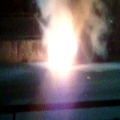fire: (46, 15, 77, 74)
